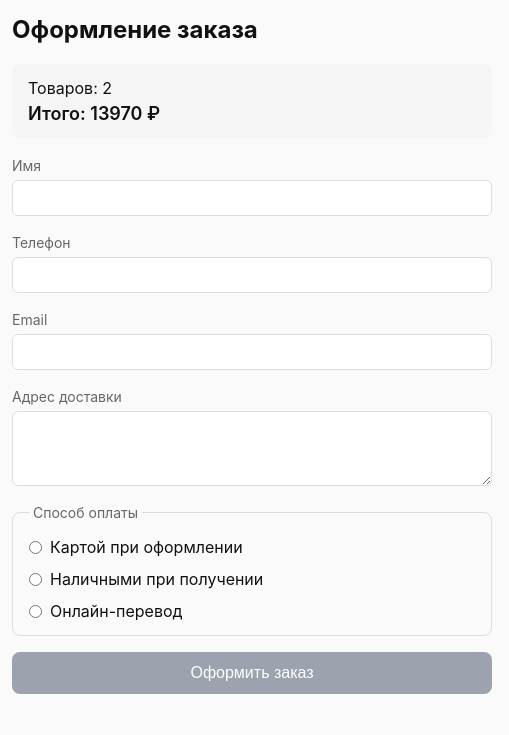
Scenario: OrderForm › submit не вызывается при одном невалидном поле
Type "Иван" into the field labelled "Имя".
click(252, 198); type("Иван")  # box [12,180,492,216]
Type "+79001234567" into the field labelled "Телефон".
click(252, 275); type("+79001234567")  # box [12,257,492,293]
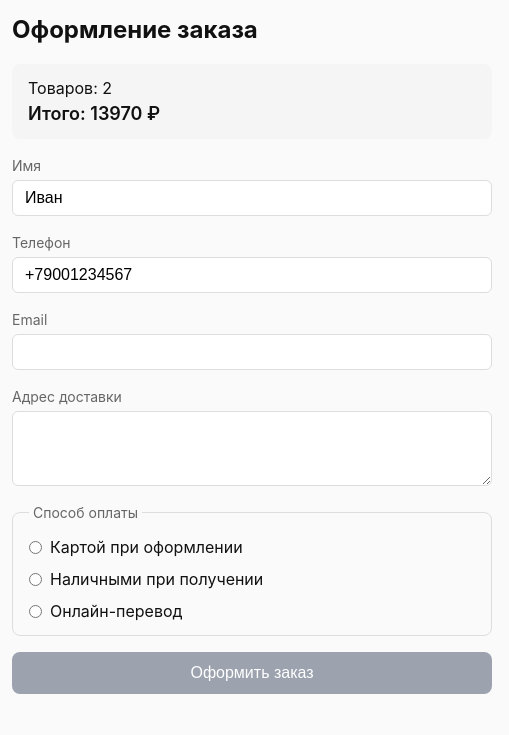
Type "ivan@example.com" into the field labelled "Email".
click(252, 352); type("ivan@example.com")  # box [12,334,492,370]
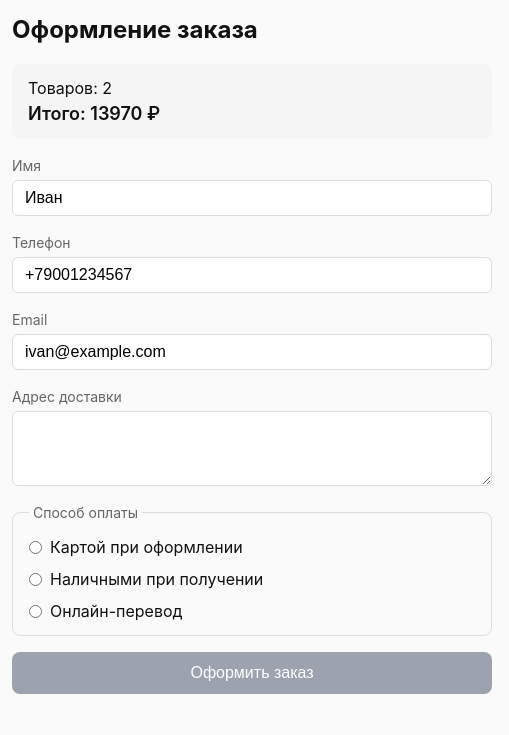
Type "ул. Пушкина, д. 10" into the text box labelled "Адрес доставки".
click(252, 448); type("ул. Пушкина, д. 10")  # box [12,411,492,486]
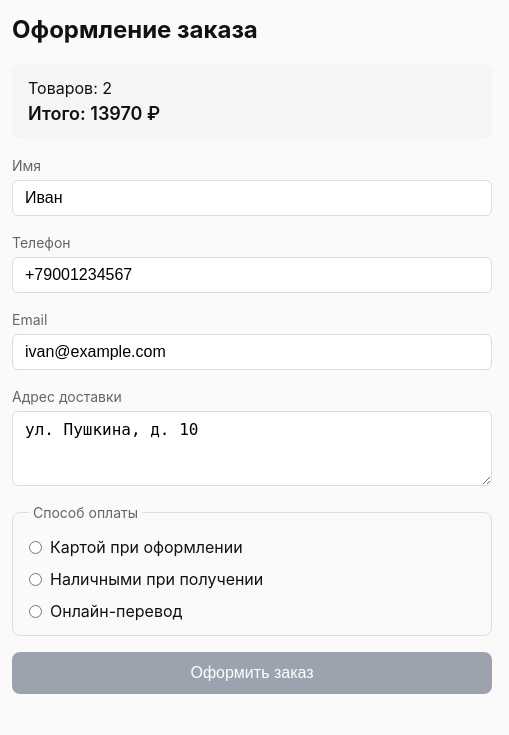
Replace the text in the field labelled "Email" with "bad" at (252, 352), box [12,334,492,370]
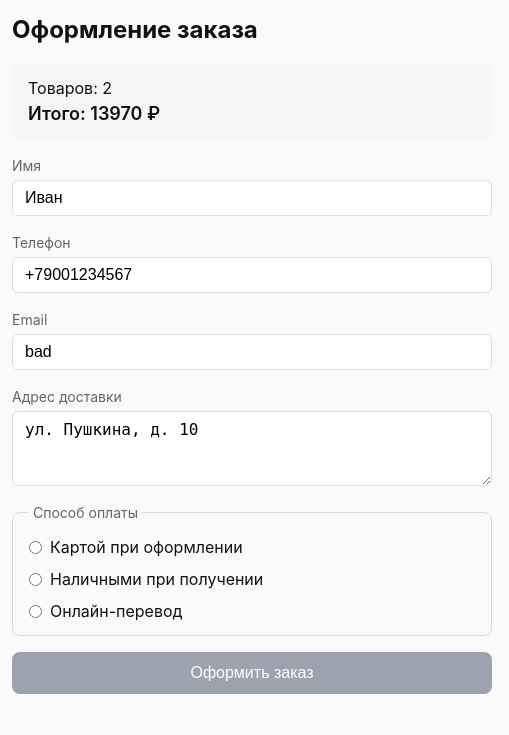
Click the radio button labelled "Картой при оформлении".
click(36, 547)  # box [29,540,42,554]
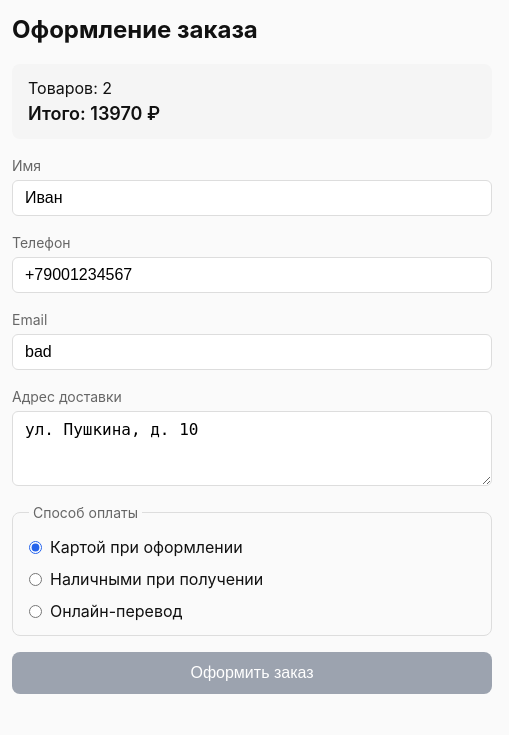
Submit the form
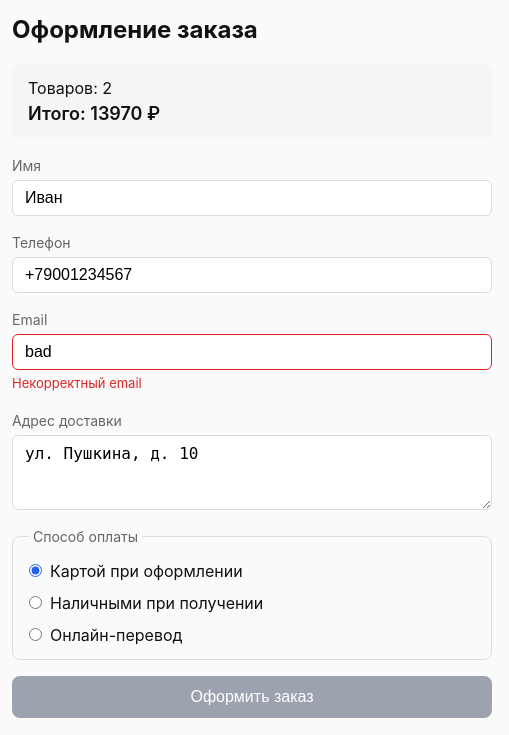
Now the text "Некорректный email" is shown, box [12,375,142,391]
